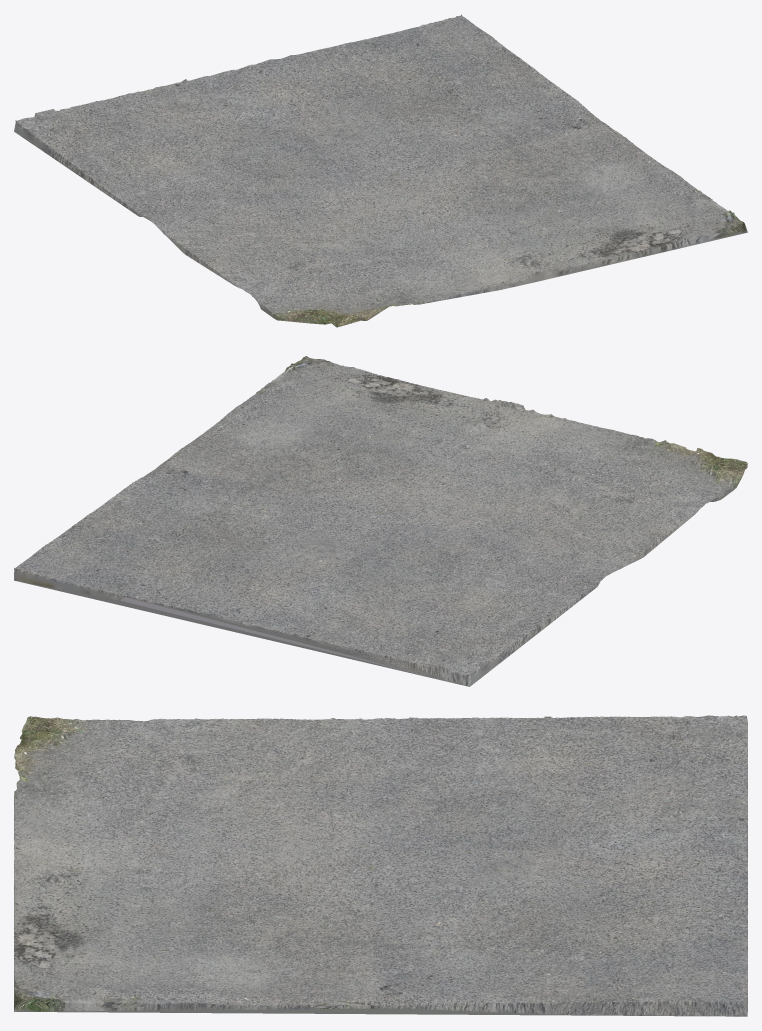
Rendered from moon-ground.glb.
3 renders of one model, top to bottom at view 1: azimuth 30°, elevation 25°; view 2: azimuth 150°, elevation 25°; view 3: azimuth 270°, elevation 25°, orthographic. The views are drawn at different scales.
Parts seen in each view (by area): view 1: grass-asphalt_grass-asphalt_u2_v1_0, grass-asphalt_grass-asphalt_u1_v2_0, grass-asphalt_grass-asphalt_u1_v1_0; view 2: grass-asphalt_grass-asphalt_u2_v1_0, grass-asphalt_grass-asphalt_u1_v2_0, grass-asphalt_grass-asphalt_u1_v1_0; view 3: grass-asphalt_grass-asphalt_u2_v1_0, grass-asphalt_grass-asphalt_u1_v2_0, grass-asphalt_grass-asphalt_u1_v1_0.
Part boxes in pixels (x1=…): grass-asphalt_grass-asphalt_u2_v1_0: x1=23, y1=20, x2=617, y2=323; grass-asphalt_grass-asphalt_u1_v2_0: x1=21, y1=50, x2=745, y2=304; grass-asphalt_grass-asphalt_u1_v1_0: x1=14, y1=14, x2=747, y2=327; grass-asphalt_grass-asphalt_u2_v1_0: x1=20, y1=420, x2=743, y2=686; grass-asphalt_grass-asphalt_u1_v2_0: x1=159, y1=357, x2=713, y2=685; grass-asphalt_grass-asphalt_u1_v1_0: x1=14, y1=356, x2=747, y2=686; grass-asphalt_grass-asphalt_u2_v1_0: x1=14, y1=715, x2=747, y2=1011; grass-asphalt_grass-asphalt_u1_v2_0: x1=14, y1=718, x2=747, y2=1015; grass-asphalt_grass-asphalt_u1_v1_0: x1=14, y1=715, x2=747, y2=1016.
Size of the model in its own units: 34.56 by 1.37 by 38.2.
3 materials, 3 textured.
